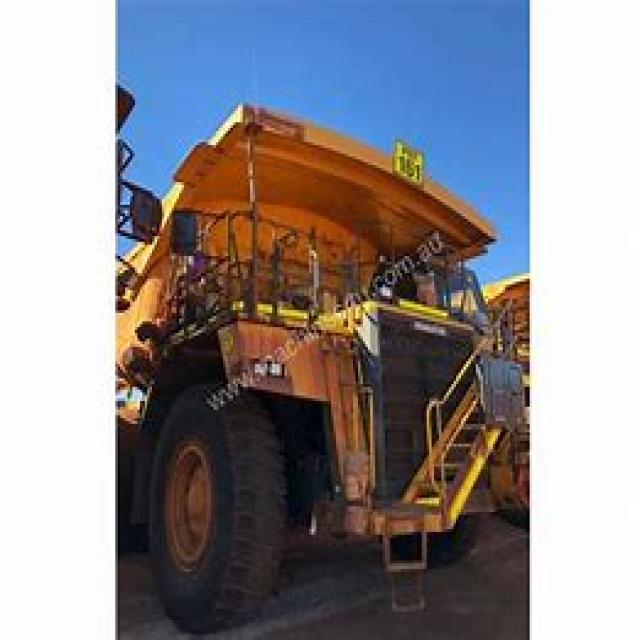dump_truck: (128, 91, 550, 623)
